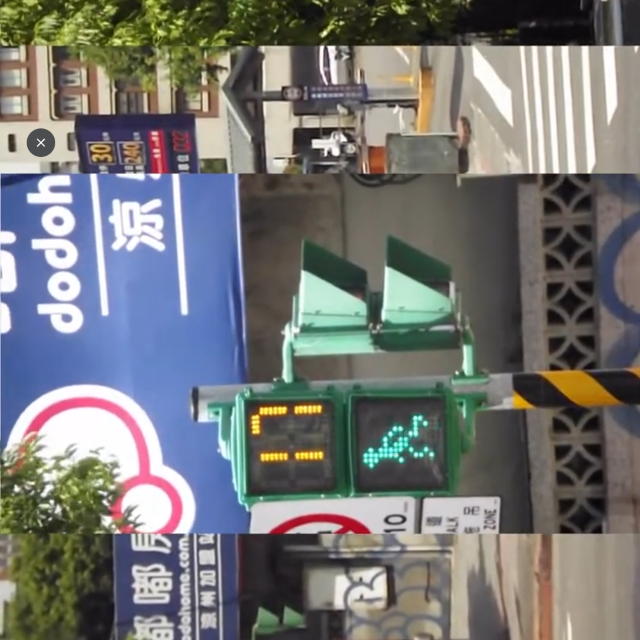green_light: (238, 392, 457, 495)
